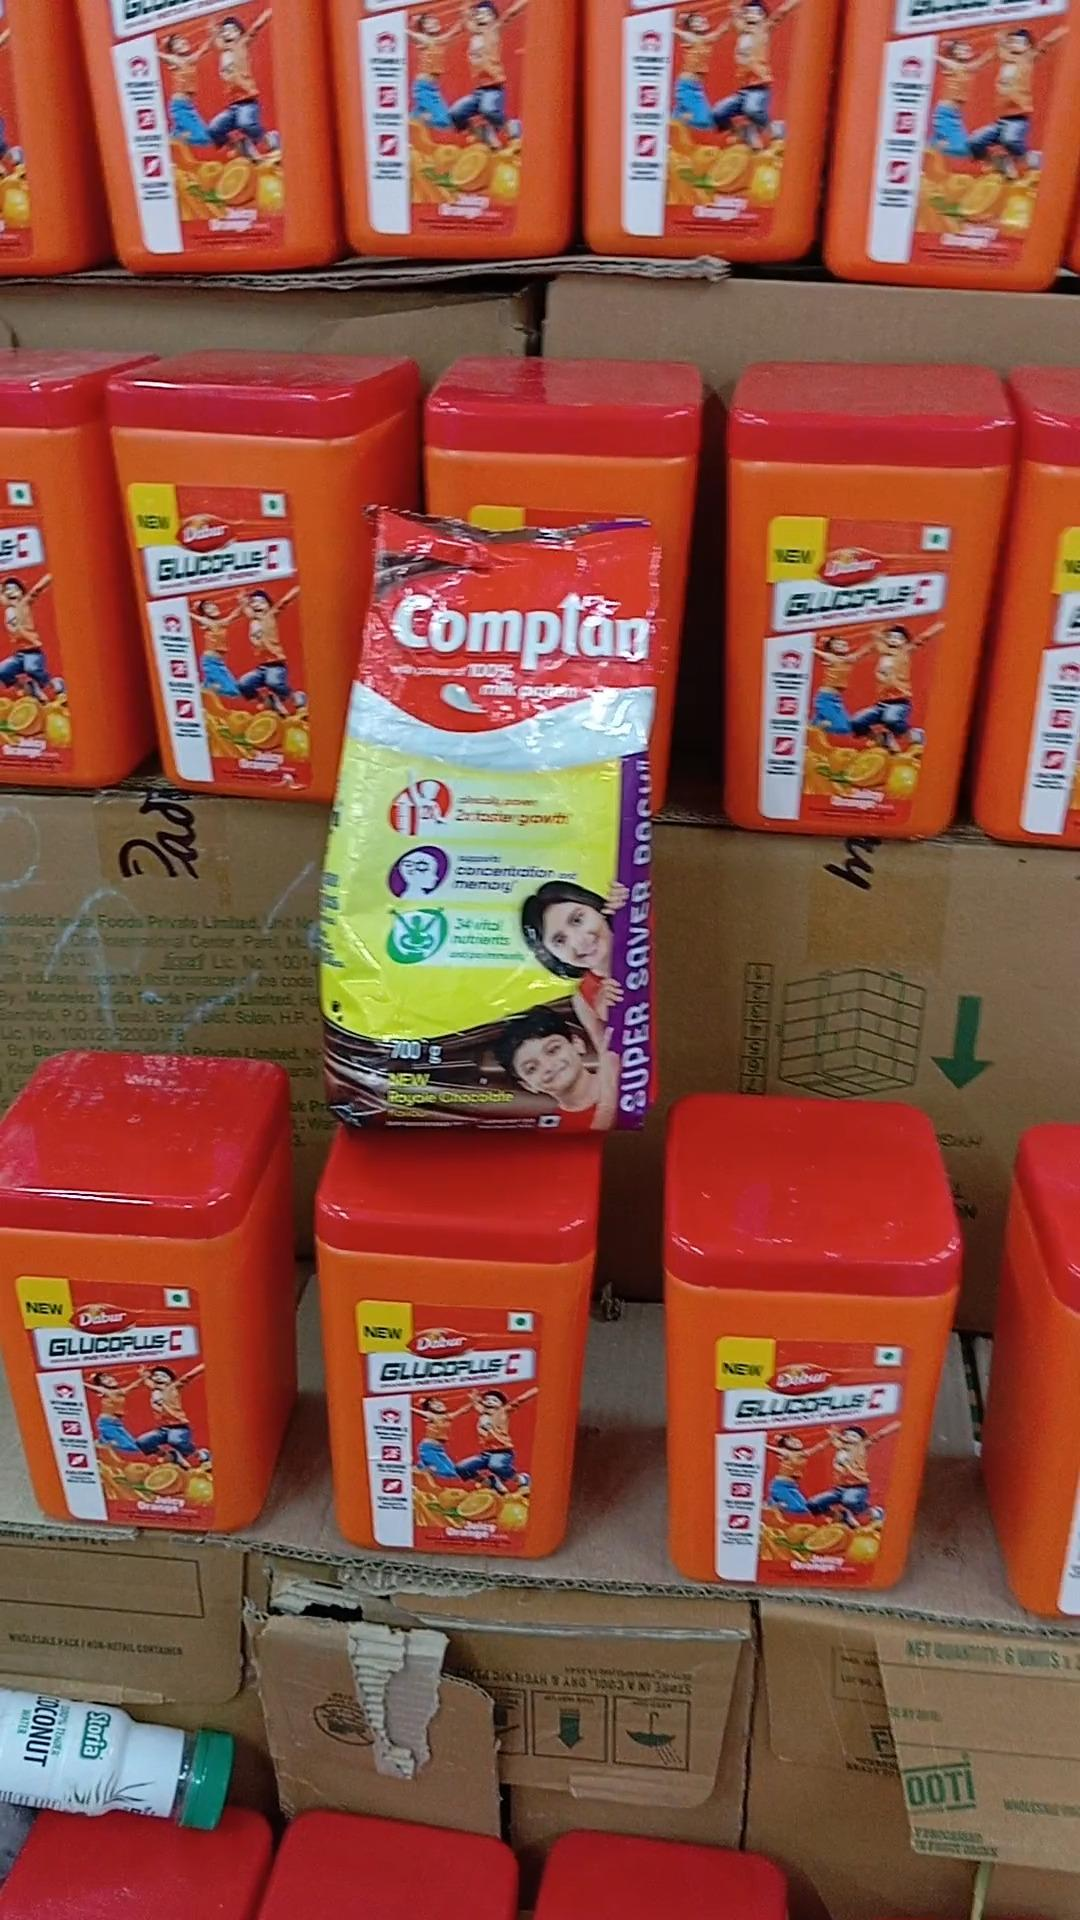COMPLAN_RC_POUCH_700_GMS_12: (338, 516, 655, 1134)
